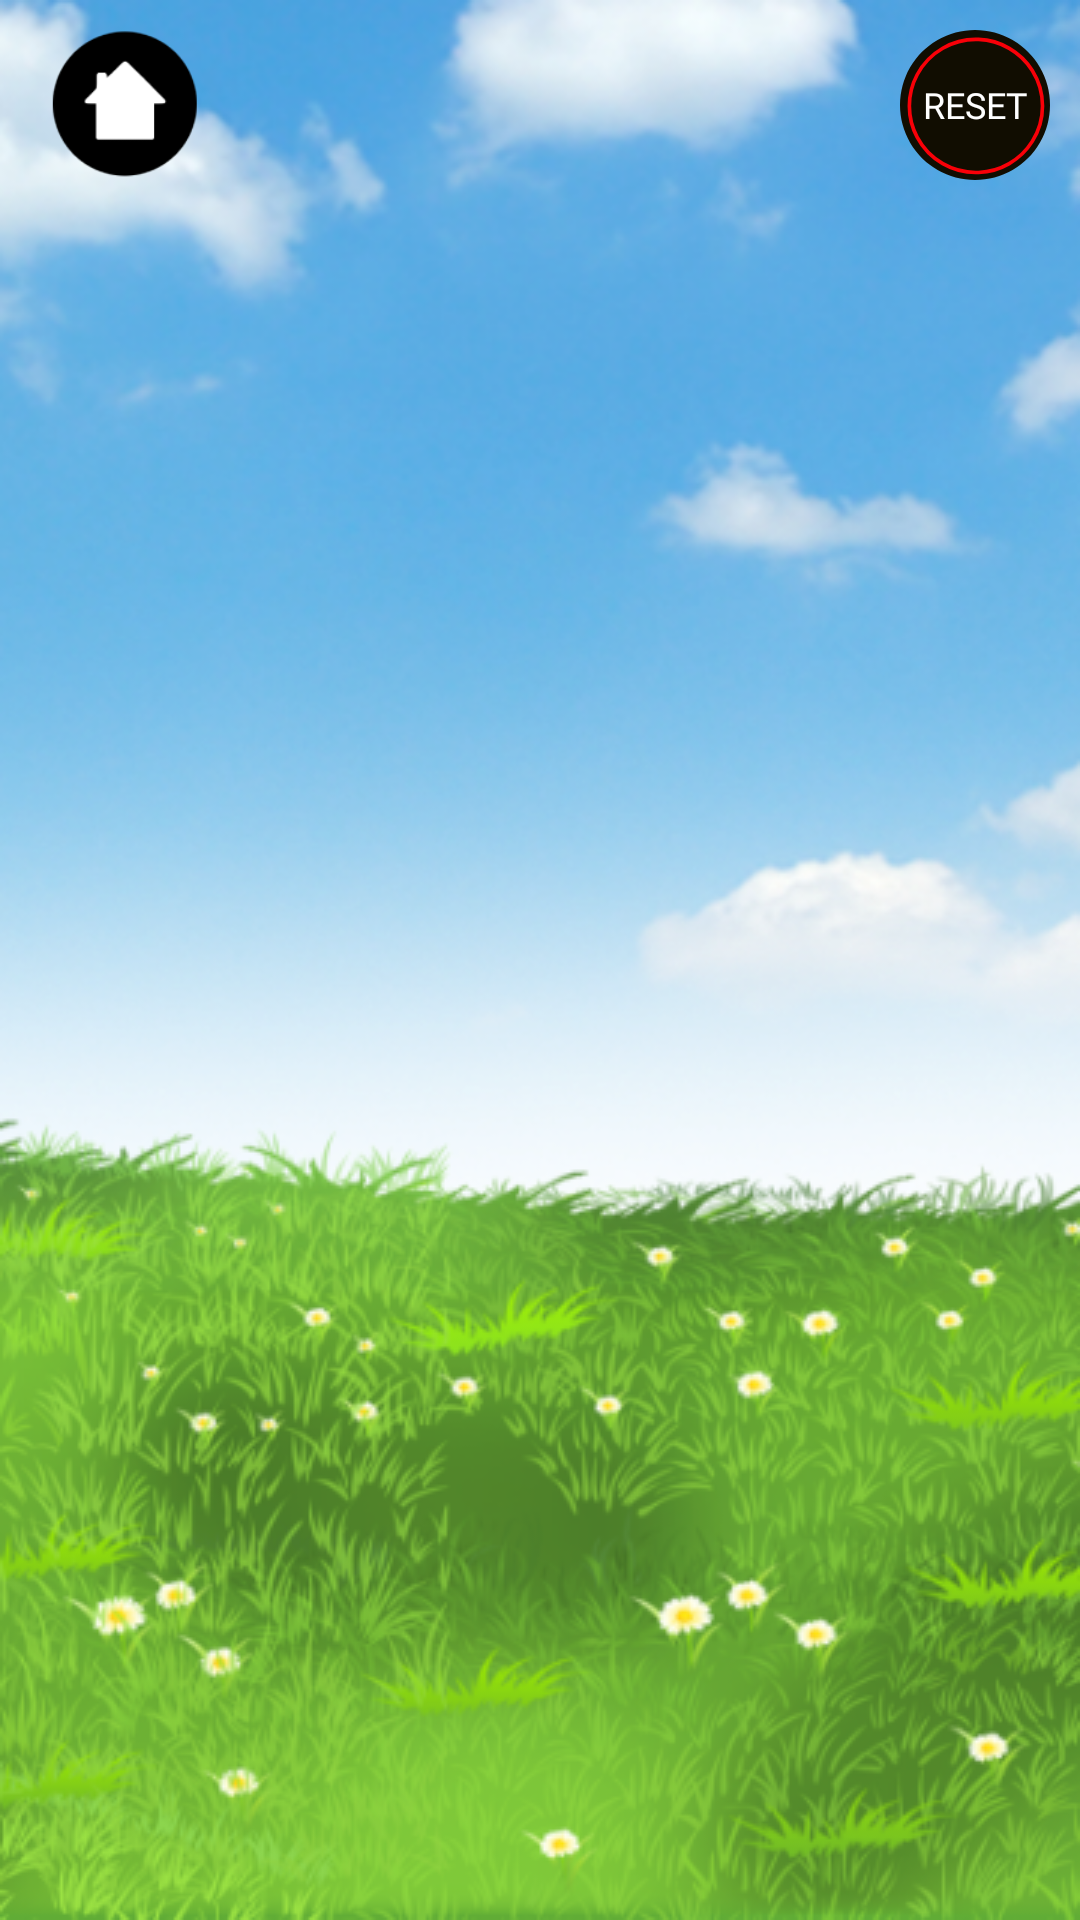

Point at icon controls on the screen. Image size 1080×1920, points as (x,y).
home: (123,105)
